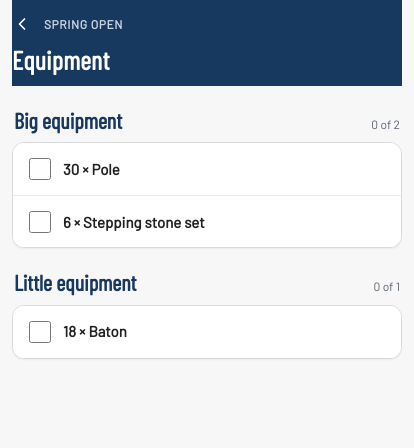
EquipmentPage › refreshes and says so when another device changed the list
The image size is (414, 448).
Click the checkbox labelled "30 × Pole".
click(40, 170)  # box [29,158,51,180]
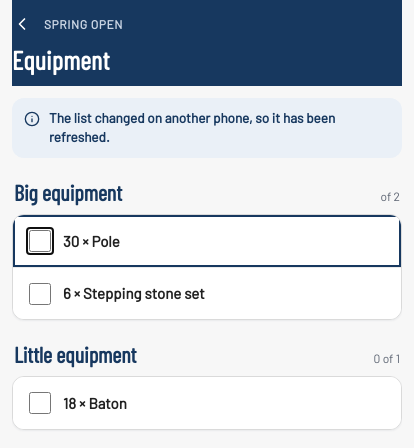
Expected: the message shows "changed on another phone", [49,109,335,145]
